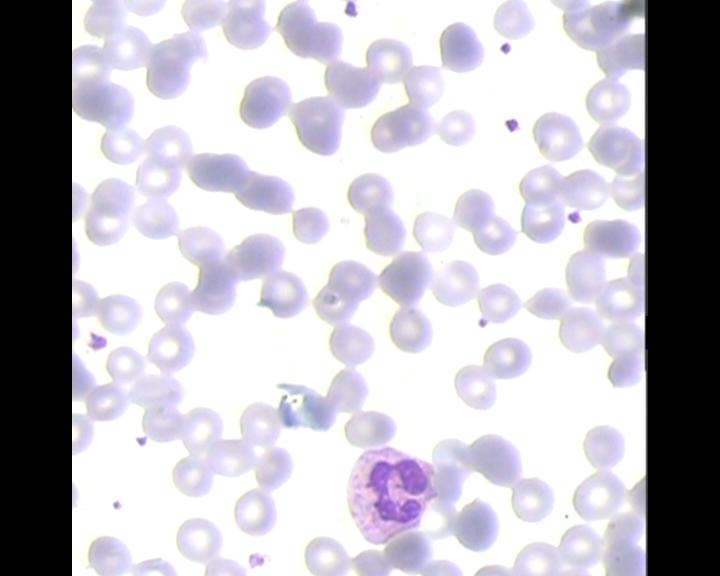neut: (340, 443, 436, 546)
